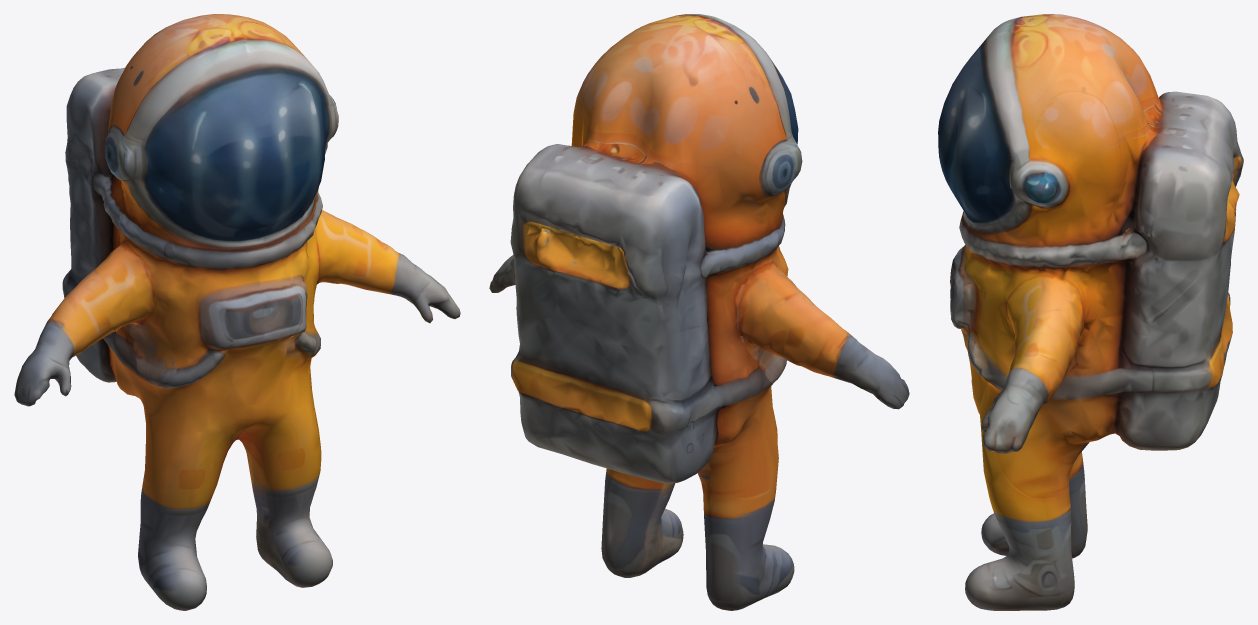
File: cute_astronaut.glb
3 views of the same model, side by side, from view 1: azimuth 30°, elevation 25°; view 2: azimuth 150°, elevation 25°; view 3: azimuth 270°, elevation 25° (orthographic).
Parts seen in each view (by area): view 1: Mesh_0_Material_0_0; view 2: Mesh_0_Material_0_0; view 3: Mesh_0_Material_0_0.
Part boxes in pixels (<box>): Mesh_0_Material_0_0: <box>14,14,460,610</box>; Mesh_0_Material_0_0: <box>489,14,909,610</box>; Mesh_0_Material_0_0: <box>938,14,1243,610</box>.
Bounding box in the file's own units: 0.9465 × 1.2 × 0.596.
Materials: 1 (1 with a texture image).
